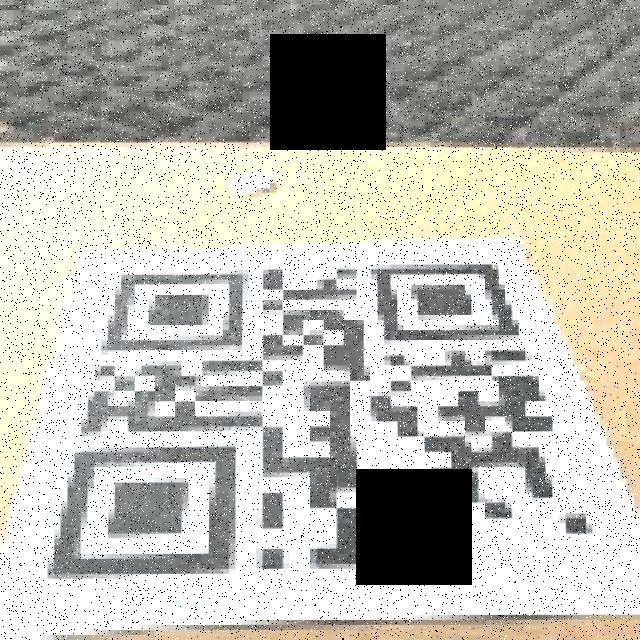QR_CODE: (34, 249, 620, 610)
